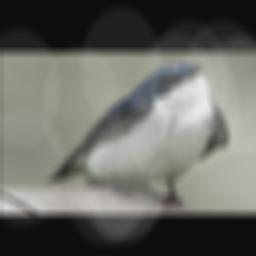Swallow: (46, 62, 231, 209)
